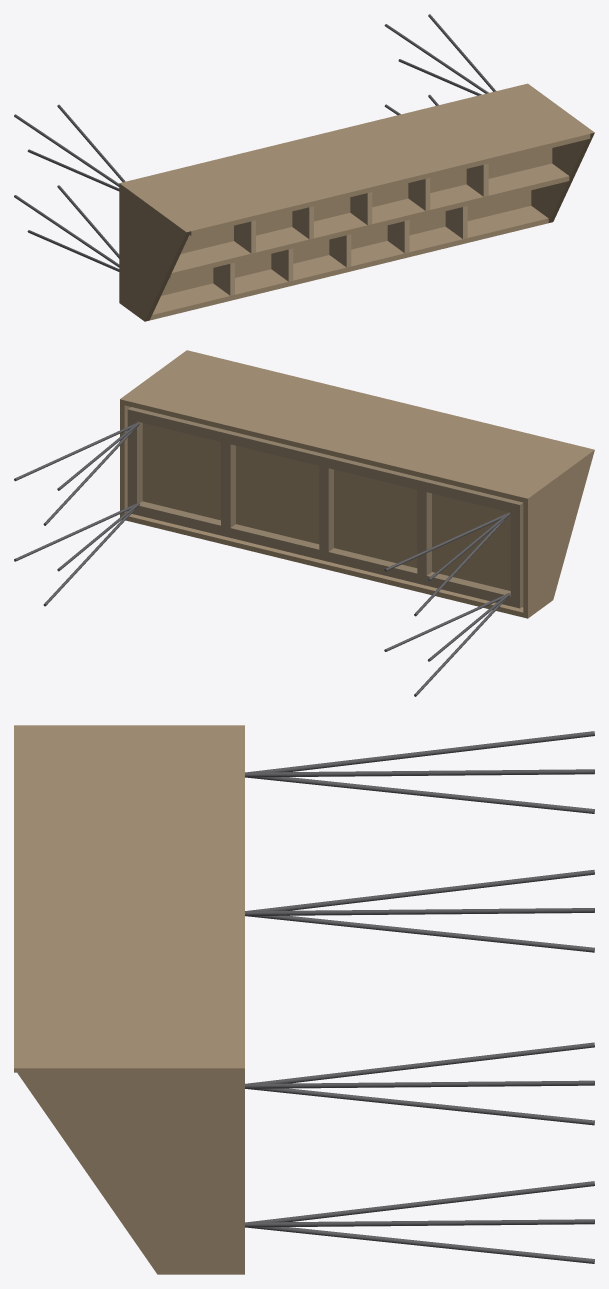
The model's file is vinyl_record_storage.glb.
The picture shows the model from 3 angles, top to bottom: view 1: azimuth 30°, elevation 25°; view 2: azimuth 150°, elevation 25°; view 3: azimuth 270°, elevation 25°; orthographic projection. The views are drawn at different scales.
Parts seen in each view (by area): view 1: back, shelf_divider, front, side_left, back_shelf_bottom, bottom, side_right, leg_back_left, leg_front_left, leg_back_right, front_divider_2, back_divider_3 (+8 smaller); view 2: back, bottom, side_left, frame_front, frame_back, front, frame_left, frame_right, frame_cross_2, frame_cross_3, leg_front_right, leg_front_left (+4 smaller); view 3: back, side_right, leg_front_left, leg_front_right, leg_back_left, leg_back_right, side_left.
Boxes of the visible parts, left/top/right/bottom form: back: left=124, top=85, right=590, bottom=235; shelf_divider: left=169, top=163, right=569, bottom=278; front: left=149, top=206, right=548, bottom=320; side_left: left=119, top=182, right=190, bottom=321; back_shelf_bottom: left=181, top=148, right=552, bottom=253; bottom: left=161, top=190, right=531, bottom=295; side_right: left=523, top=83, right=594, bottom=222; leg_back_left: left=14, top=104, right=125, bottom=191; leg_front_left: left=14, top=185, right=119, bottom=271; leg_back_right: left=384, top=14, right=496, bottom=95; front_divider_2: left=271, top=248, right=293, bottom=281; back_divider_3: left=350, top=192, right=372, bottom=225; back: left=124, top=351, right=589, bottom=502; bottom: left=130, top=406, right=523, bottom=606; side_left: left=523, top=448, right=594, bottom=618; frame_front: left=137, top=501, right=510, bottom=605; frame_back: left=137, top=409, right=513, bottom=512; front: left=125, top=514, right=523, bottom=617; frame_left: left=510, top=500, right=523, bottom=608; frame_right: left=127, top=407, right=142, bottom=514; frame_cross_2: left=319, top=466, right=333, bottom=551; frame_cross_3: left=221, top=442, right=235, bottom=527; leg_front_right: left=14, top=502, right=139, bottom=606; leg_front_left: left=384, top=593, right=510, bottom=696; back: left=14, top=729, right=244, bottom=1072; side_right: left=14, top=1064, right=244, bottom=1274; leg_front_left: left=245, top=870, right=594, bottom=952; leg_front_right: left=245, top=1181, right=594, bottom=1263; leg_back_left: left=245, top=731, right=594, bottom=813; leg_back_right: left=245, top=1042, right=594, bottom=1125; side_left: left=14, top=725, right=244, bottom=729.
Size of the model in its own units: 66.33 by 19.25 by 46.53.
